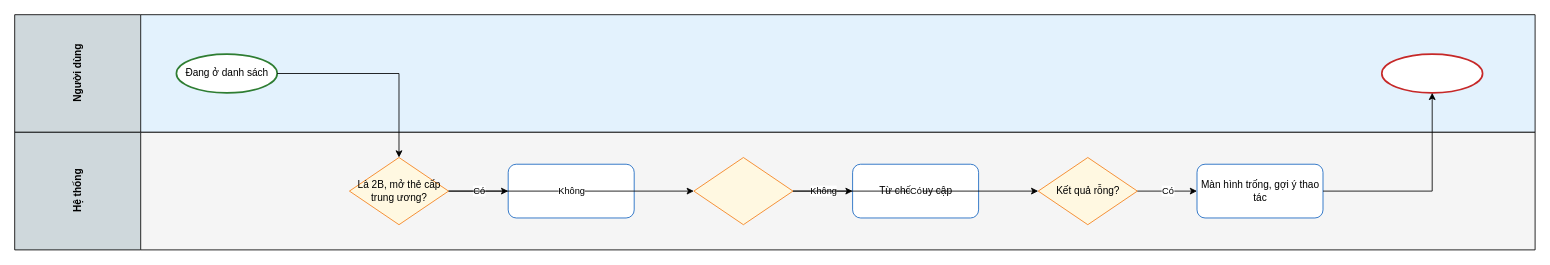
This 1550x265 diagram has some shape labels left out. Here are the shapes that lost their labels. From the top down, the box of each, then its label:
(1381, 53, 1483, 93): Kết thúc
(507, 163, 634, 218): Hiển thị sự kiện 2A cùng ngành quản lý, chỉ đọc; nút Kế thừa nếu có uỷ quyền
(693, 157, 793, 225): Có quyền xem?
